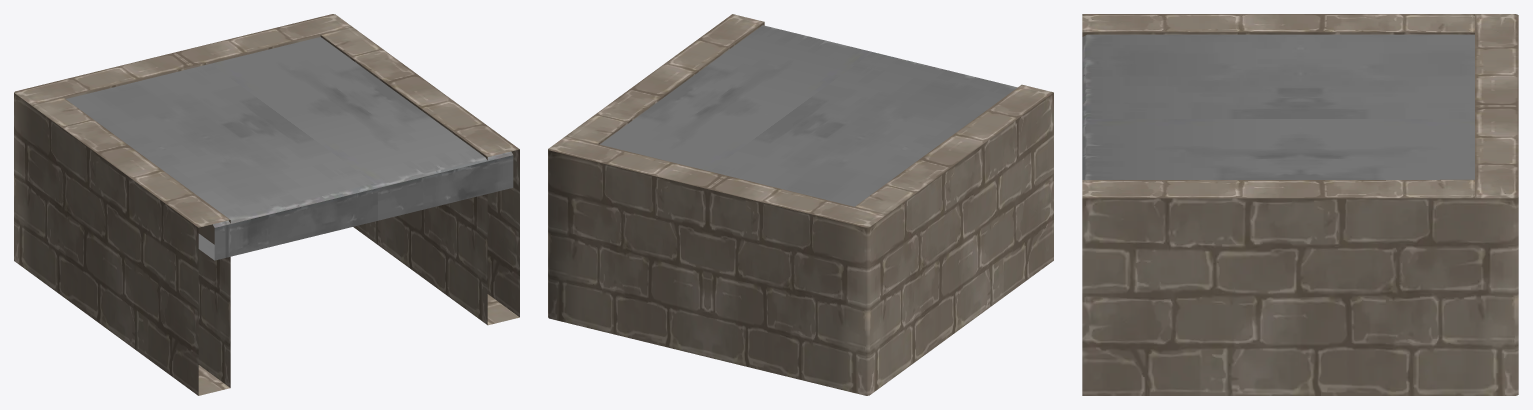
File: Stairs_Exterior_PlatformU.gltf
3 renders of one model, left to right at view 1: azimuth 30°, elevation 25°; view 2: azimuth 150°, elevation 25°; view 3: azimuth 270°, elevation 25°, orthographic. The views are drawn at different scales.
Visible parts, largest first — view 1: Stairs_Exterior_PlatformU; view 2: Stairs_Exterior_PlatformU; view 3: Stairs_Exterior_PlatformU.
Boxes of the visible parts, box(x1,y1,x2,y2) form: Stairs_Exterior_PlatformU: box(14, 14, 519, 395); Stairs_Exterior_PlatformU: box(548, 14, 1053, 395); Stairs_Exterior_PlatformU: box(1082, 14, 1518, 395).
Bounding box in the file's own units: 2 × 1 × 2.
2 materials, 2 textured.
